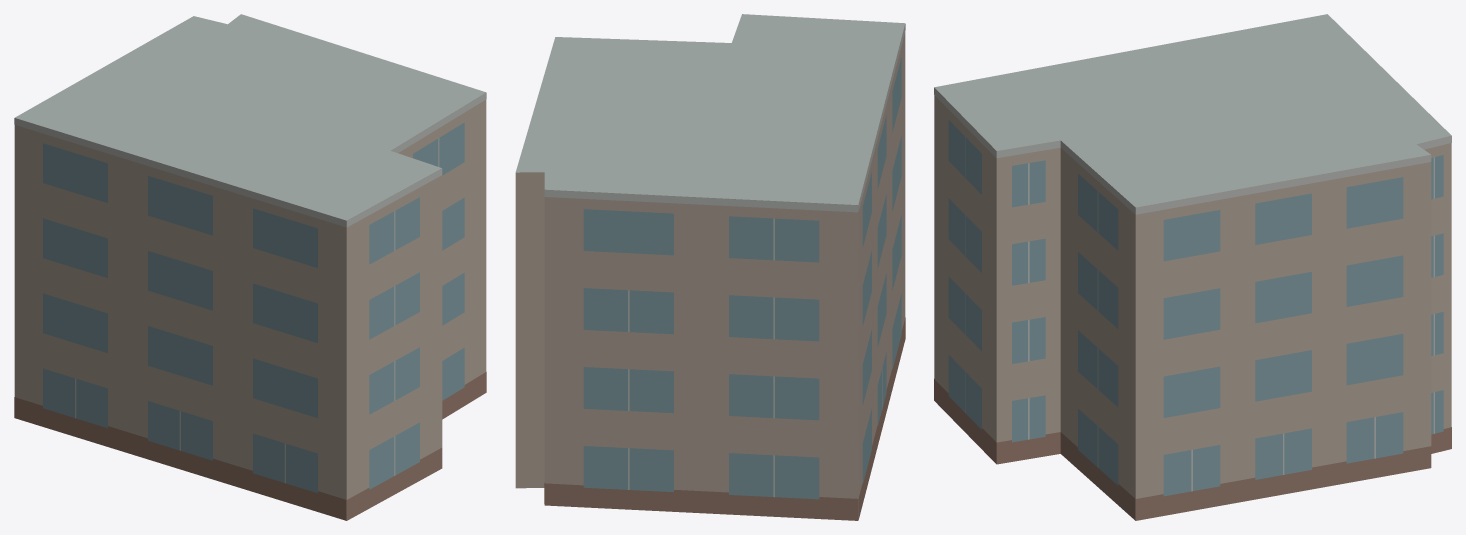
Rendered from survey-upis-32846644.glb.
The picture shows the model from 3 angles, left to right: view 1: azimuth 30°, elevation 25°; view 2: azimuth 150°, elevation 25°; view 3: azimuth 270°, elevation 25°; orthographic projection. The views are drawn at different scales.
Parts seen in each view (by area): view 1: survey-upis-32846644.tmp; view 2: survey-upis-32846644.tmp; view 3: survey-upis-32846644.tmp.
Boxes of the visible parts, <box> form: survey-upis-32846644.tmp: <box>14,14,486,520</box>; survey-upis-32846644.tmp: <box>515,14,905,520</box>; survey-upis-32846644.tmp: <box>934,14,1451,520</box>.
Bounding box in the file's own units: 14.05 × 10.6 × 15.88.
